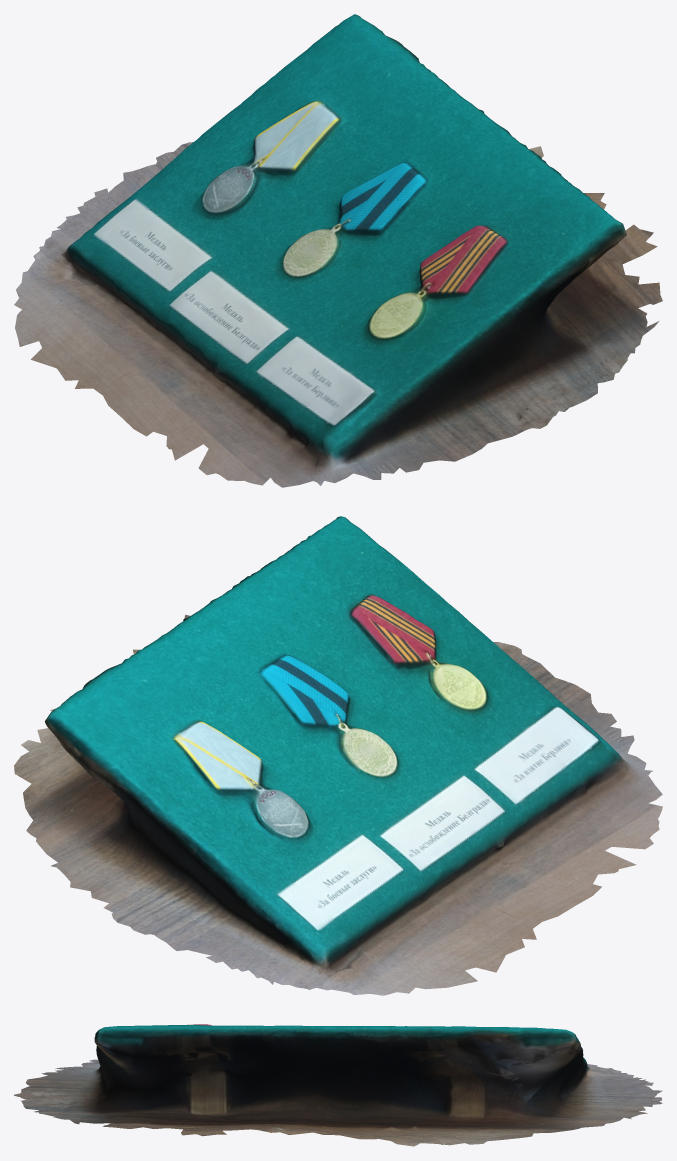
File: medals.glb
The picture shows the model from 3 angles, top to bottom: view 1: azimuth 30°, elevation 25°; view 2: azimuth 150°, elevation 25°; view 3: azimuth 270°, elevation 25°; orthographic projection. The views are drawn at different scales.
Parts seen in each view (by area): view 1: 3DModel_LowPoly; view 2: 3DModel_LowPoly; view 3: 3DModel_LowPoly.
Boxes of the visible parts, x1,y1,x2,y2 form: 3DModel_LowPoly: (14,14,662,487); 3DModel_LowPoly: (14,516,662,995); 3DModel_LowPoly: (14,1024,662,1146).
Size of the model in its own units: 0.6253 by 0.2652 by 0.8628.
Materials: 1 (1 with a texture image).
